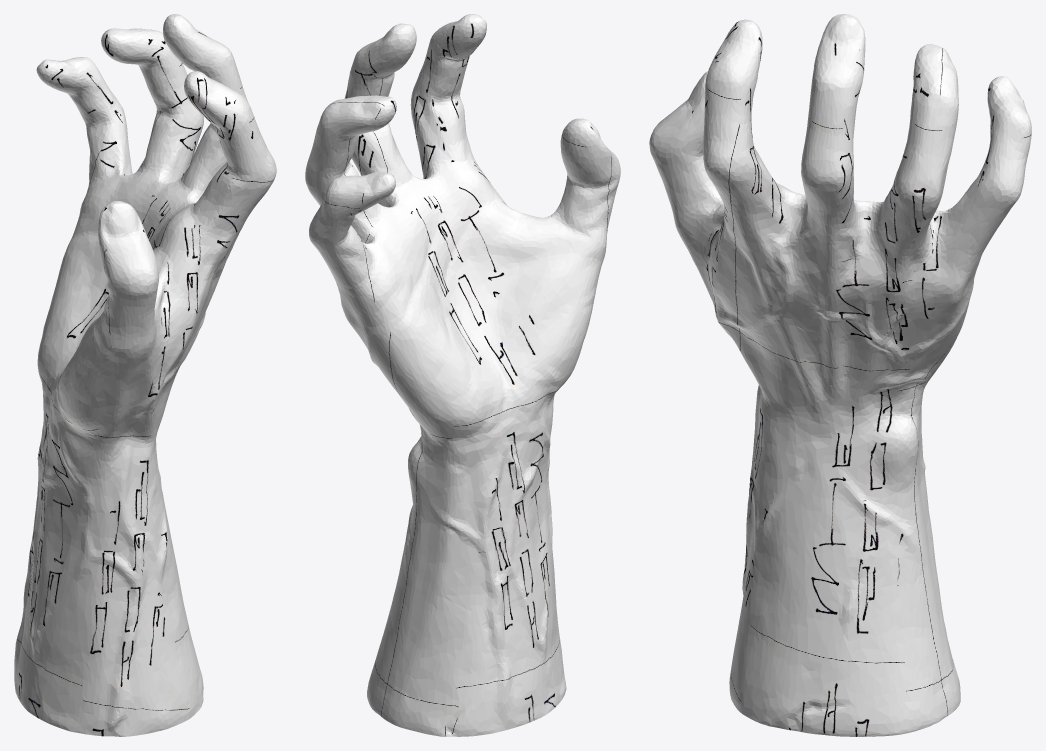
File: hand_web_mat_1_3.gltf
3 renders of one model, left to right at view 1: azimuth 30°, elevation 25°; view 2: azimuth 150°, elevation 25°; view 3: azimuth 270°, elevation 25°, orthographic. The views are drawn at different scales.
Parts seen in each view (by area): view 1: Creepy_Hand; view 2: Creepy_Hand; view 3: Creepy_Hand.
Part boxes in pixels (x1,y1,x2,y2): Creepy_Hand: [14, 14, 276, 736]; Creepy_Hand: [305, 14, 620, 736]; Creepy_Hand: [649, 14, 1031, 736].
Size of the model in its own units: 5.4 by 15.78 by 7.63.
1 material, 1 textured.
